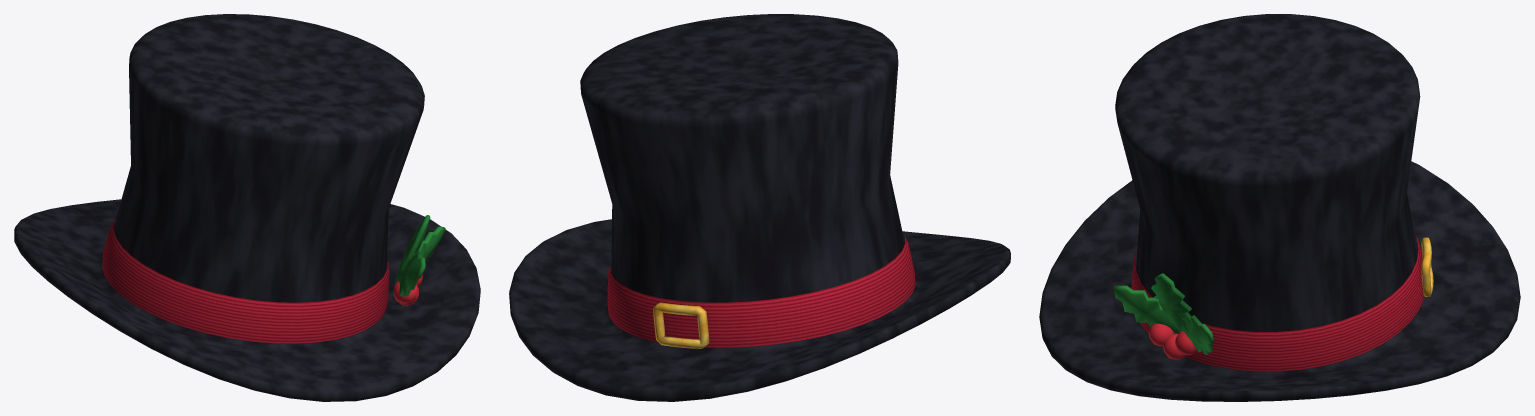
The model's file is tophat.glb.
3 views of the same model, side by side, from view 1: azimuth 30°, elevation 25°; view 2: azimuth 150°, elevation 25°; view 3: azimuth 270°, elevation 25° (orthographic). The views are drawn at different scales.
Parts seen in each view (by area): view 1: Hat; view 2: Hat; view 3: Hat.
Boxes of the visible parts, box(x1,y1,x2,y2) form: Hat: box(14, 14, 480, 401); Hat: box(509, 14, 1010, 401); Hat: box(1039, 14, 1520, 401).
Size of the model in its own units: 0.5944 by 0.3684 by 0.5993.
1 material, 1 textured.
